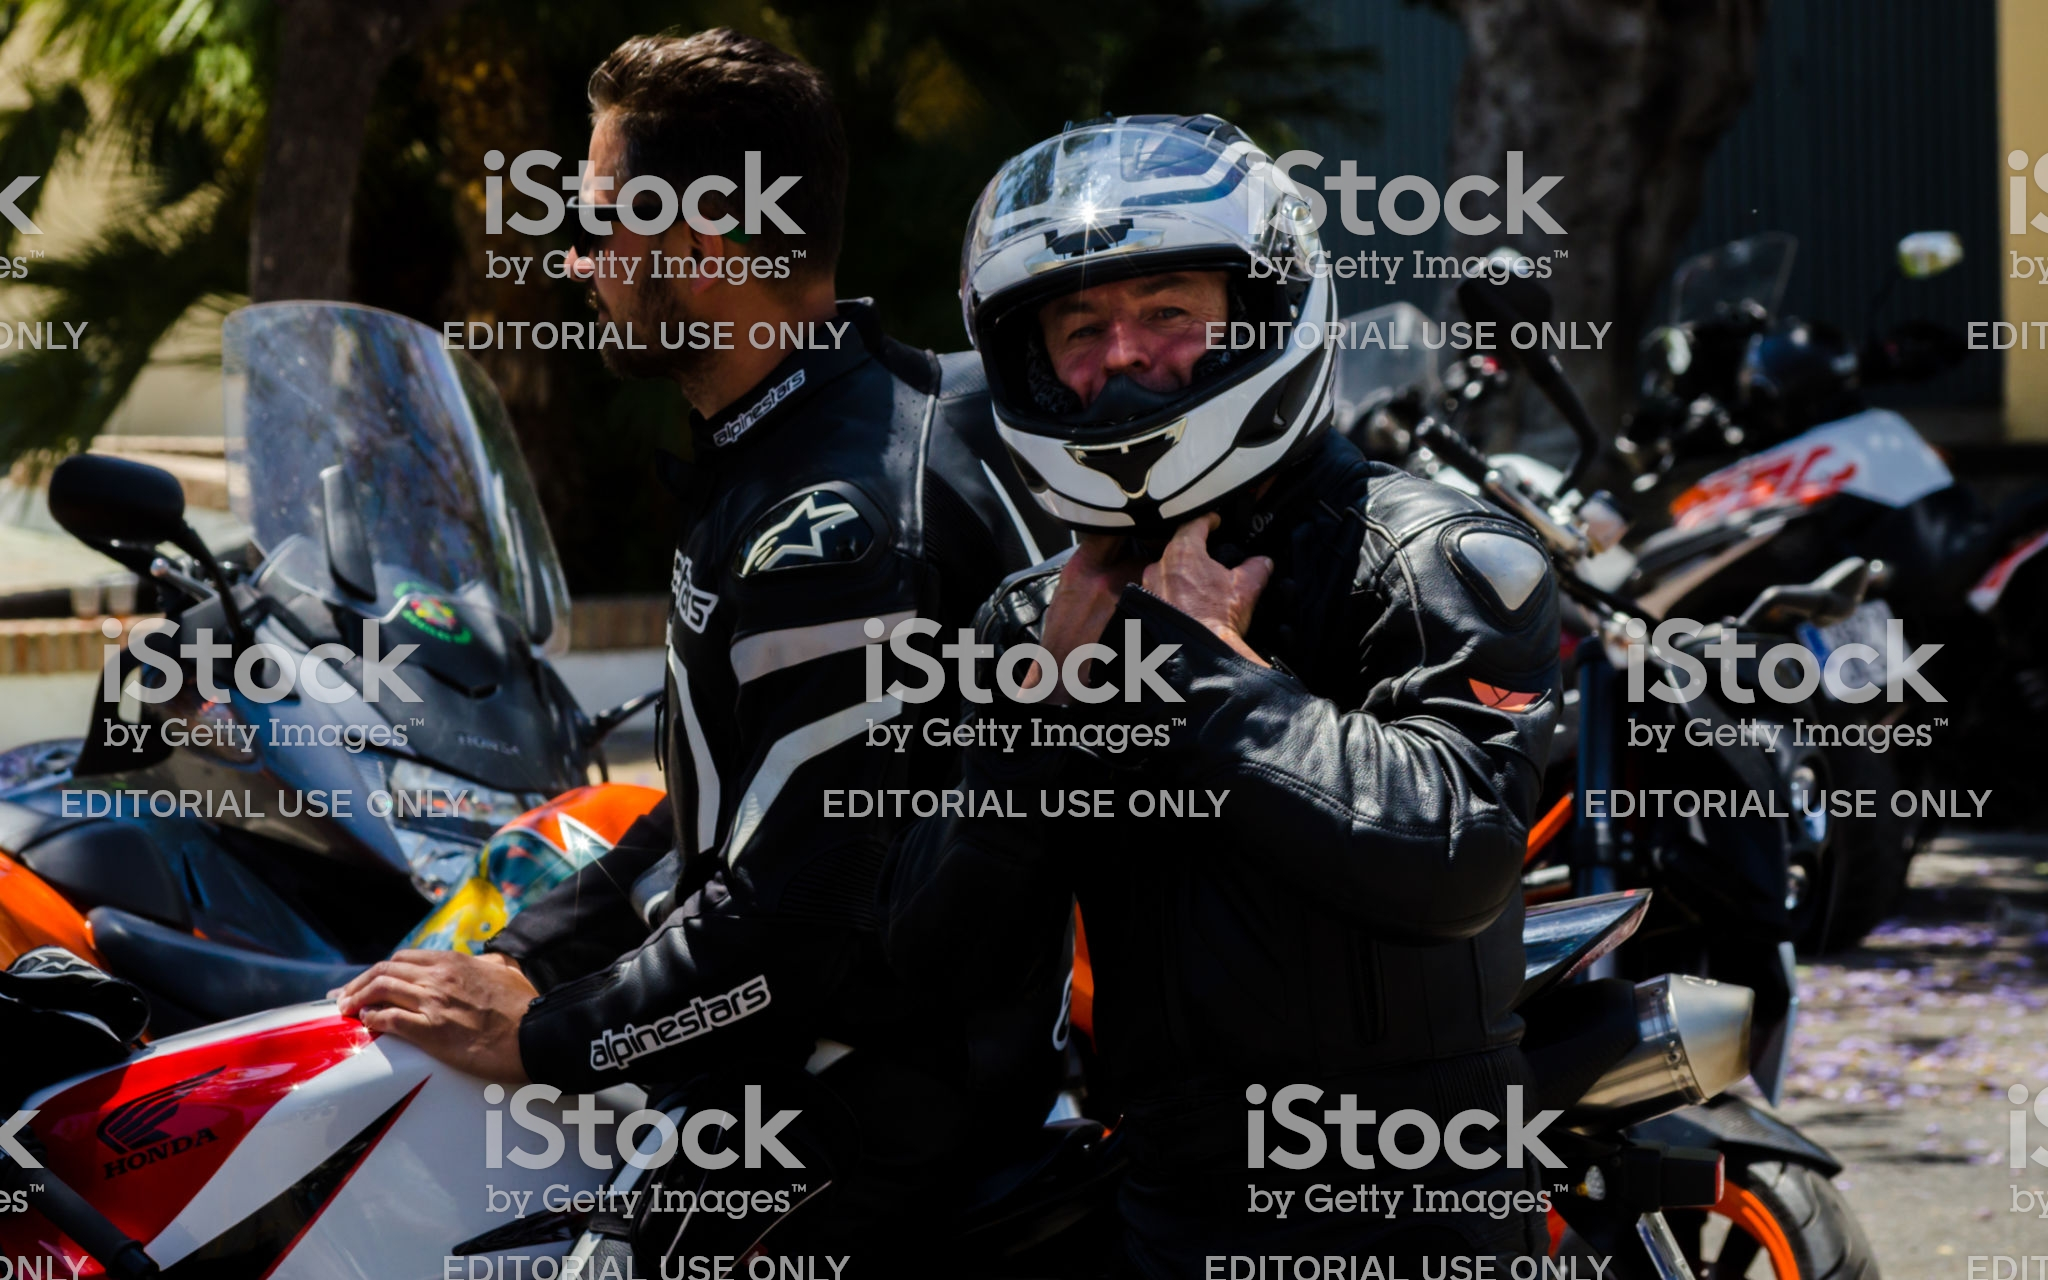helmet: (942, 88, 1393, 500)
